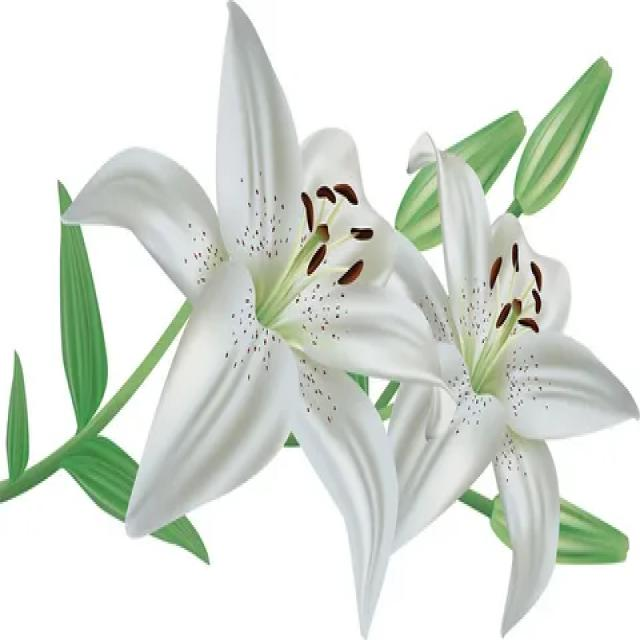lily: (59, 0, 456, 633)
